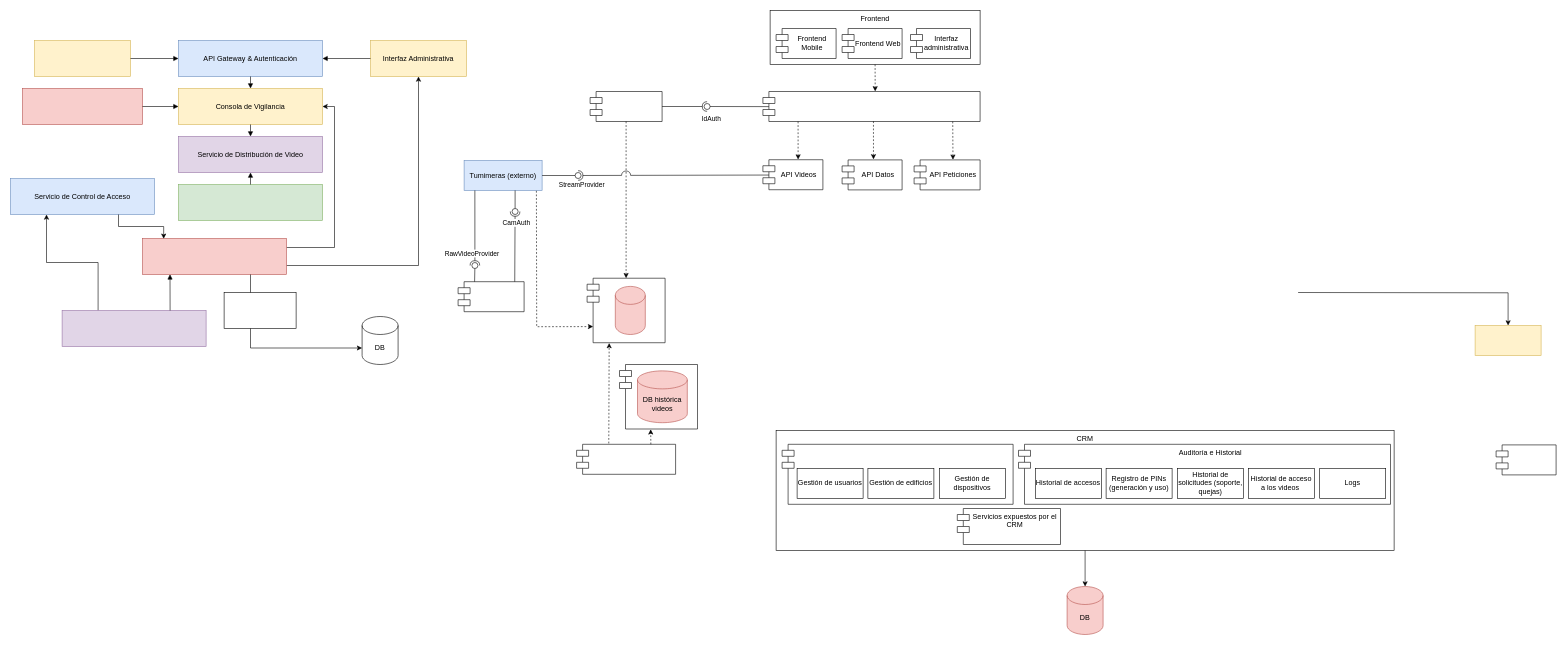
Some shapes in this 1567 by 645 pixel diagram are drawn without their labels. The box of each missing label's shape, as (x1, y1, x2, y2) in pixels:
Apertura de puertas: (1496, 444, 1556, 475)
Aplicación Móvil: (34, 40, 130, 76)
Autenticación y autorización: (590, 91, 662, 122)
CRM Central: (142, 238, 286, 274)
DB general: (615, 286, 645, 334)
Descarga y envío de videos: (458, 281, 524, 312)
Edge Controller: (62, 310, 206, 346)
Edge Gateway: (762, 91, 980, 122)
Gestión de entidades: (782, 444, 1013, 504)
La Heladera: (576, 444, 676, 474)
Módulo de Ingestión de Video: (178, 184, 322, 220)
Módulo de Scoring de Cámaras: (22, 88, 142, 124)
persistencia: (224, 292, 296, 328)
Peticiones: api?: (1474, 325, 1541, 356)
